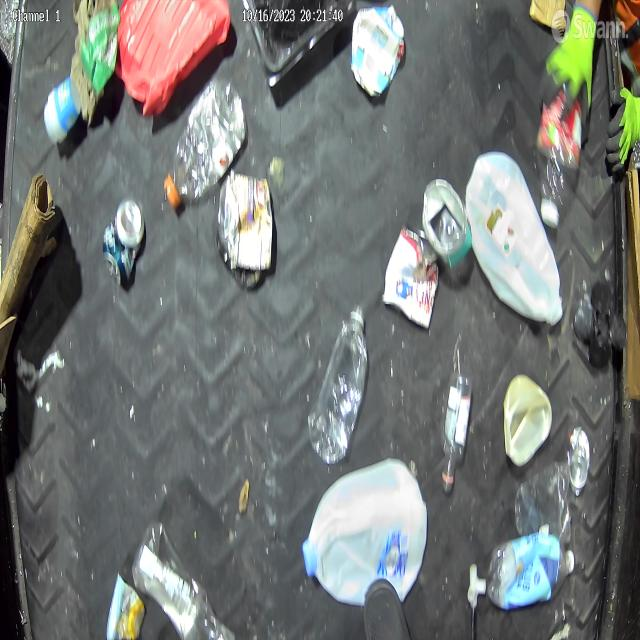can: (382, 223, 439, 330), (224, 170, 274, 268), (422, 177, 473, 269), (102, 197, 146, 288), (441, 371, 472, 494), (568, 425, 590, 496)
milk_jug: (301, 456, 429, 606), (465, 151, 563, 325)
plastic_bottle: (131, 520, 235, 640), (164, 76, 247, 210), (310, 301, 368, 463)
